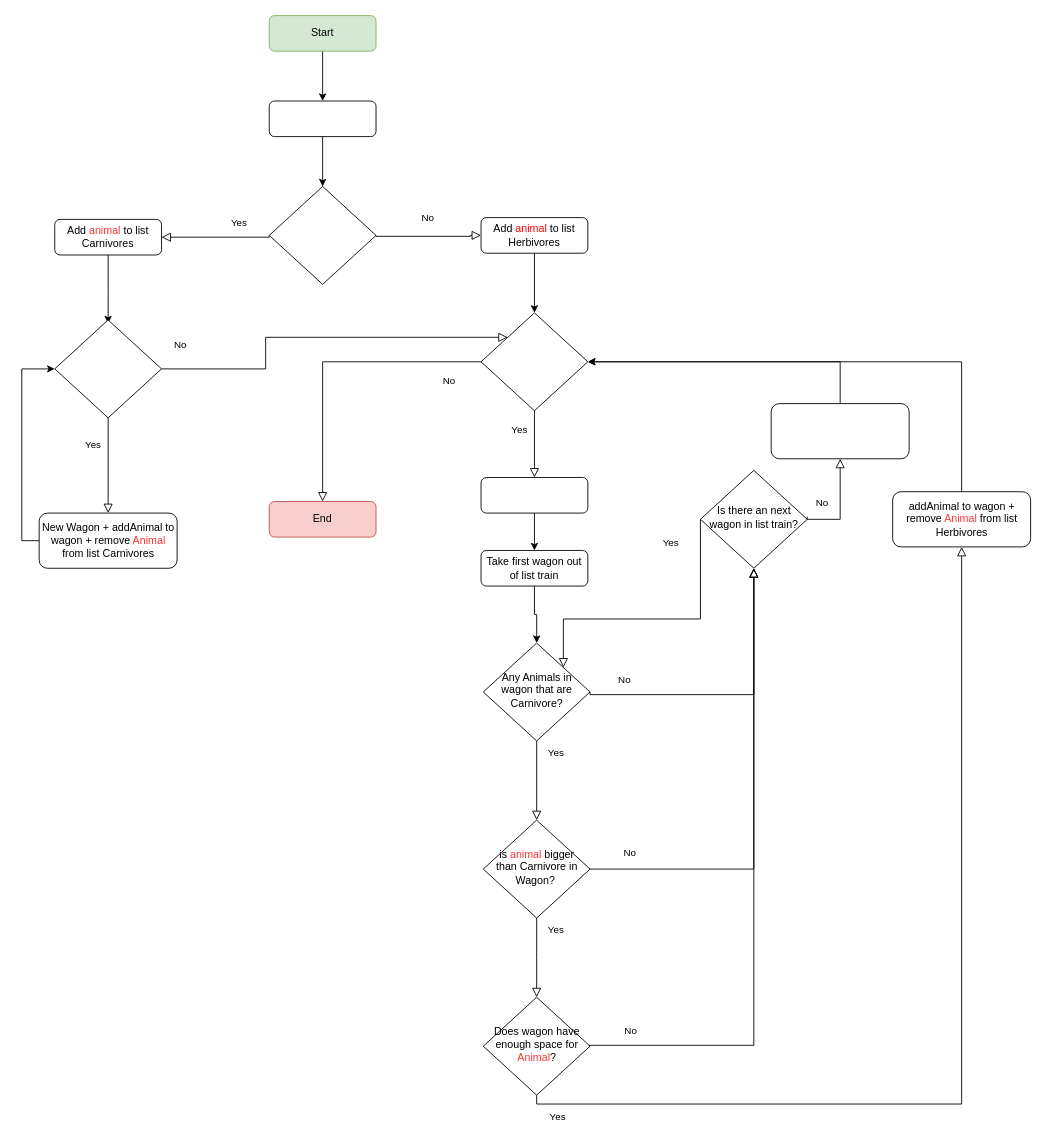
The diagram is 1047 pixels wide and 1137 high, and some of its shapes have lost their labels. Each missing label, with the box of its shape:
Add animals to list animals: (268, 100, 376, 137)
Any Carnivores in list Carnivores?: (54, 319, 162, 418)
Any Herbivores in list Herbivores?: (480, 312, 588, 411)
Is animal in list animals a carnivore?: (268, 186, 376, 284)
New Wagon + addAnimal to wagon + remove Animal from list Herbivores: (770, 403, 909, 459)
Take first animal out of list Herbivores: (480, 477, 588, 513)
